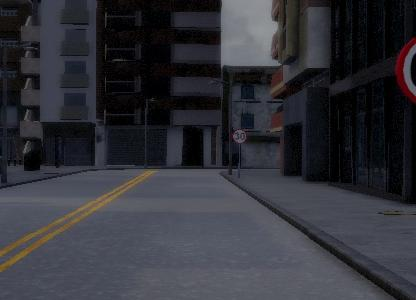Speed_60: (393, 21, 416, 119)
